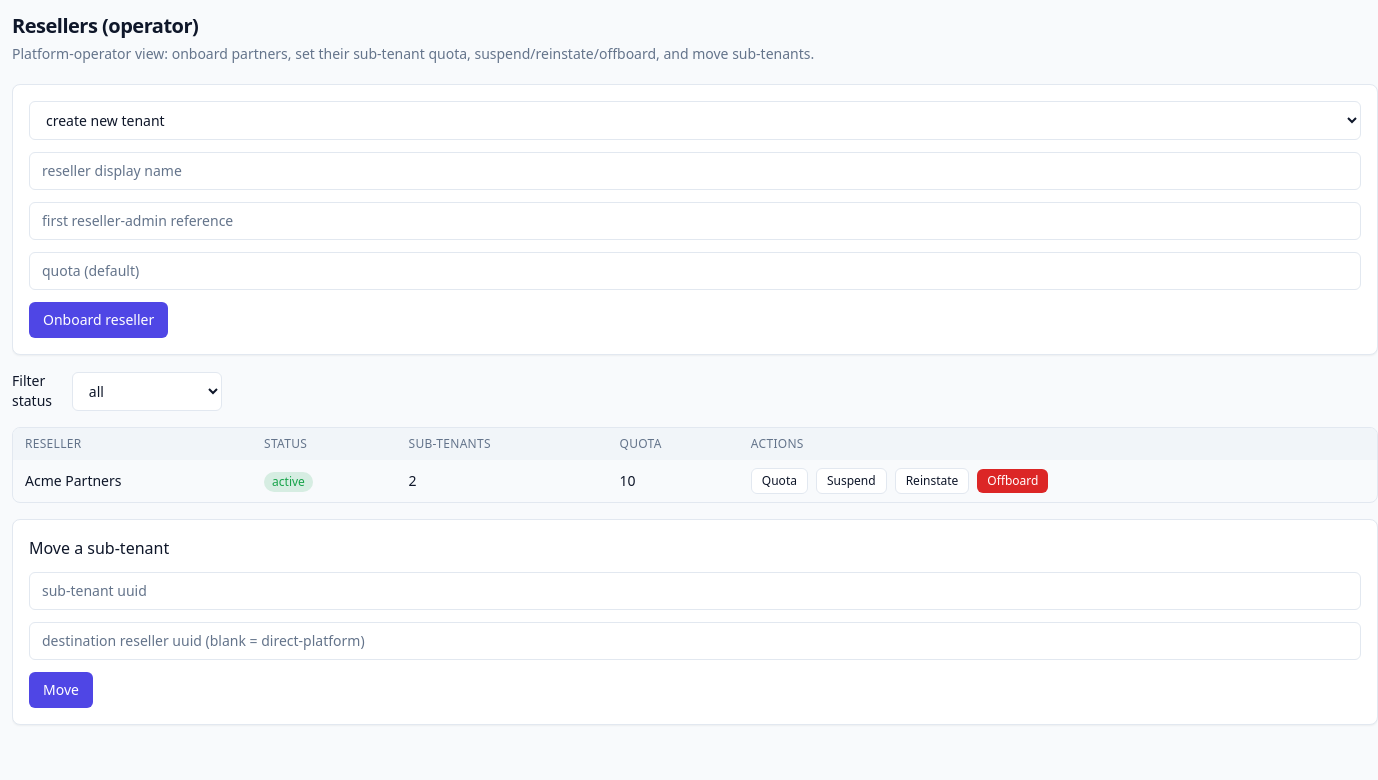
Test case: Resellers (operator, US4) › onboards a new reseller and surfaces a 409 onboarding_conflict inline
The image size is (1378, 780).
Expected: the text "Acme Partners" is shown, left=13, top=460, right=252, bottom=502
Type "New Partner" into the field labelled "display name" at [695, 171], box left=29, top=152, right=1361, bottom=190
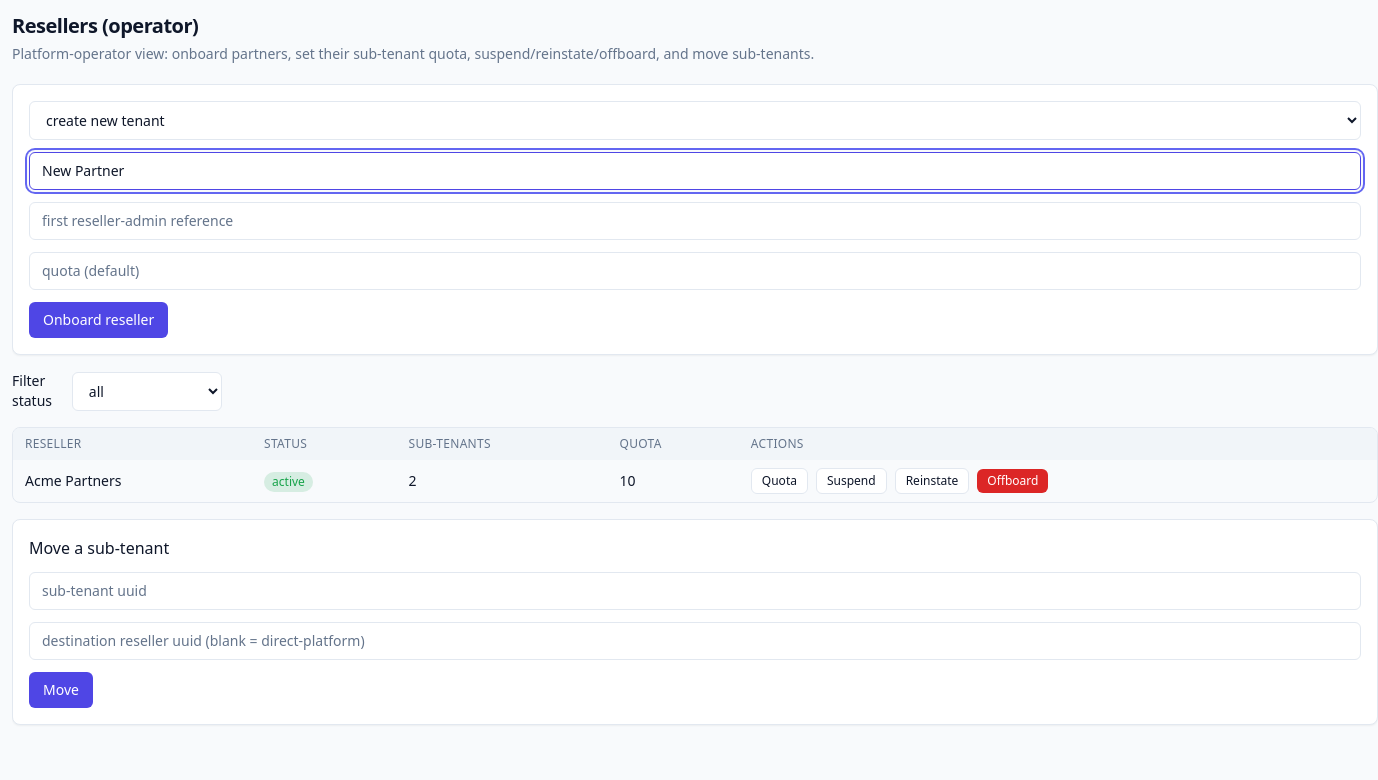
Type "admin@new" into the field named "First admin reference" at [695, 221], box left=29, top=202, right=1361, bottom=240
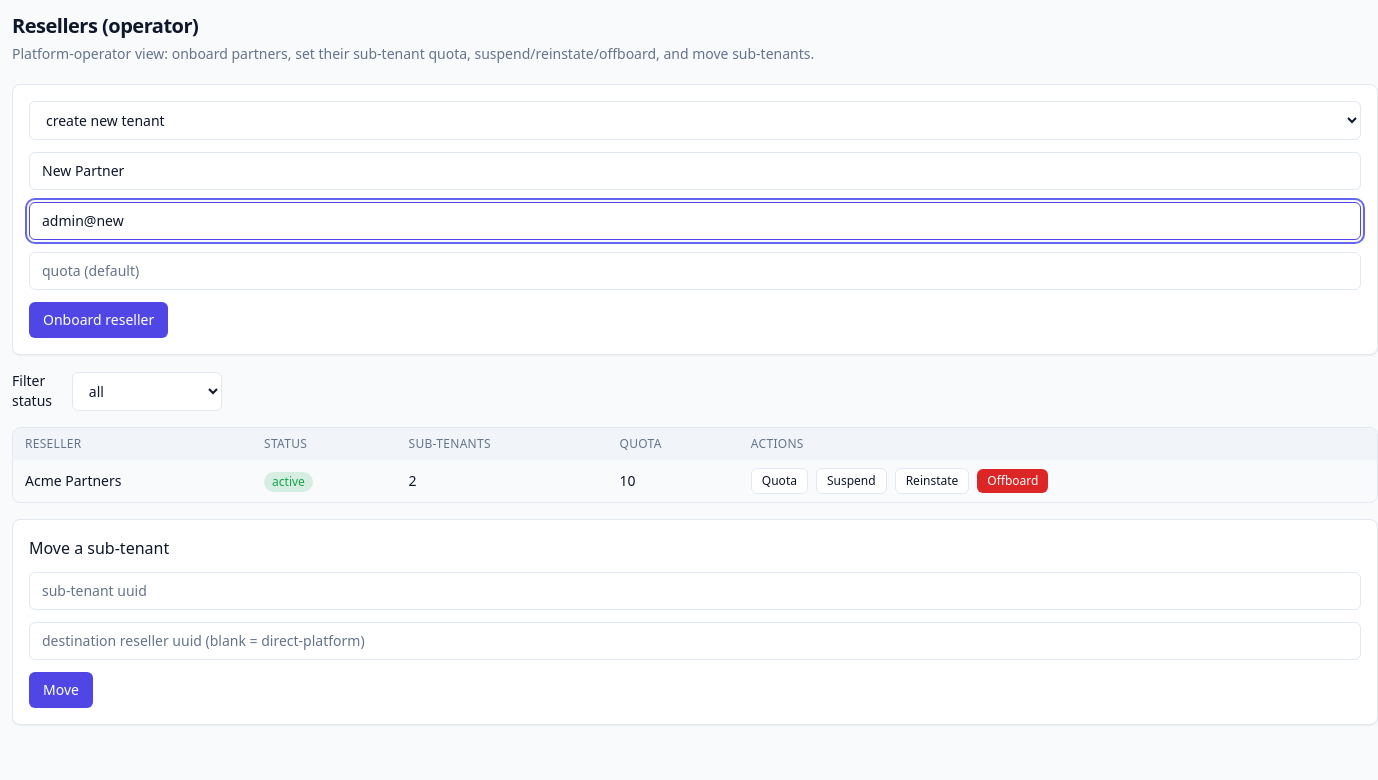
Click the button "Onboard reseller" at [99, 320], box left=29, top=302, right=168, bottom=338
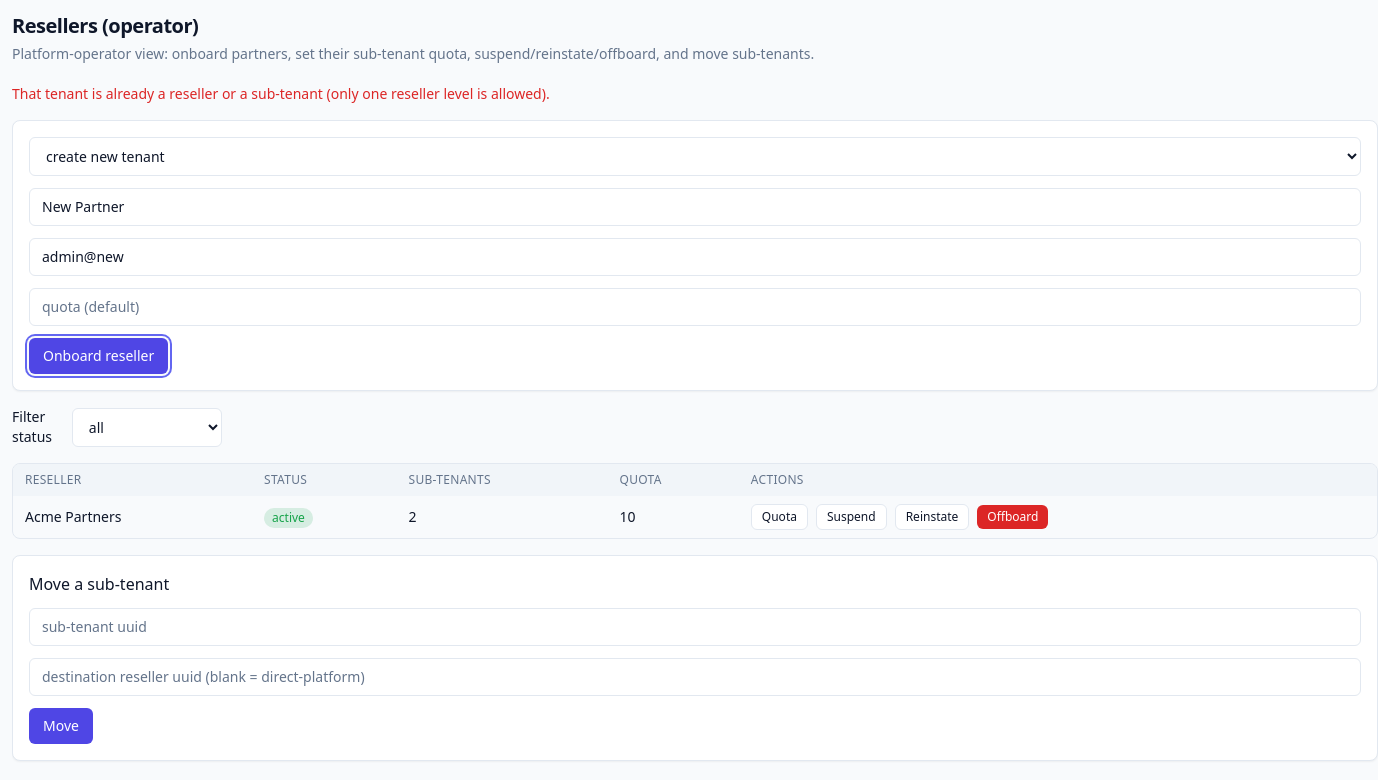
Expected: the message shows "already a reseller or a sub-tenant", left=12, top=84, right=550, bottom=103
